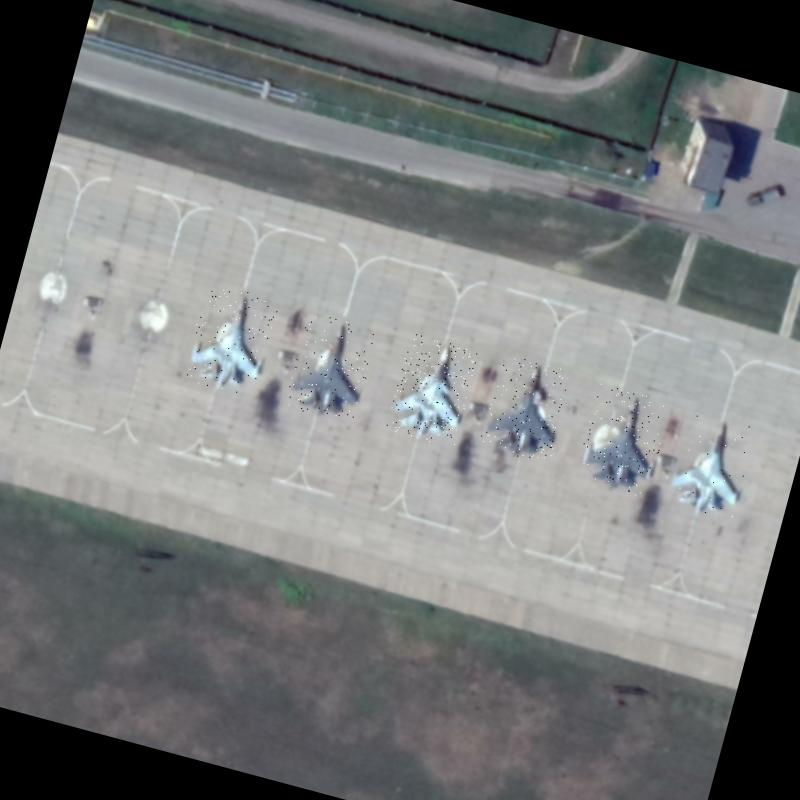A1: (181, 281, 280, 398), (574, 383, 672, 498), (478, 353, 574, 465), (662, 409, 757, 522), (284, 312, 378, 424)
A19: (384, 332, 480, 448)
